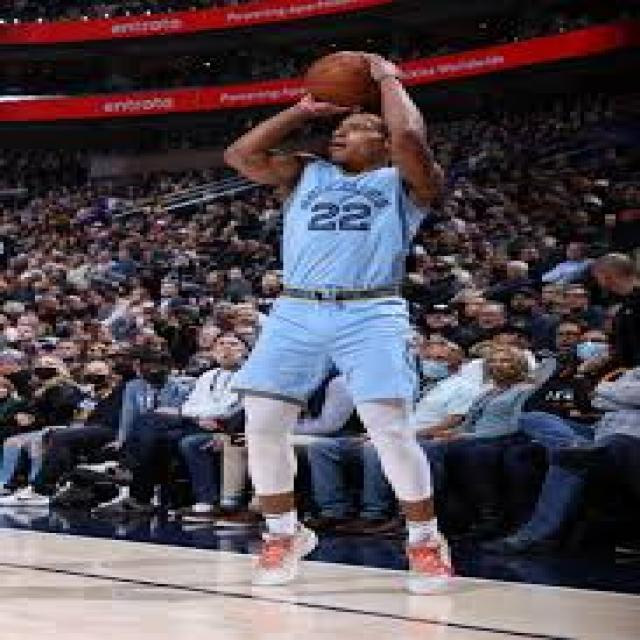rim: (308, 49, 392, 105)
